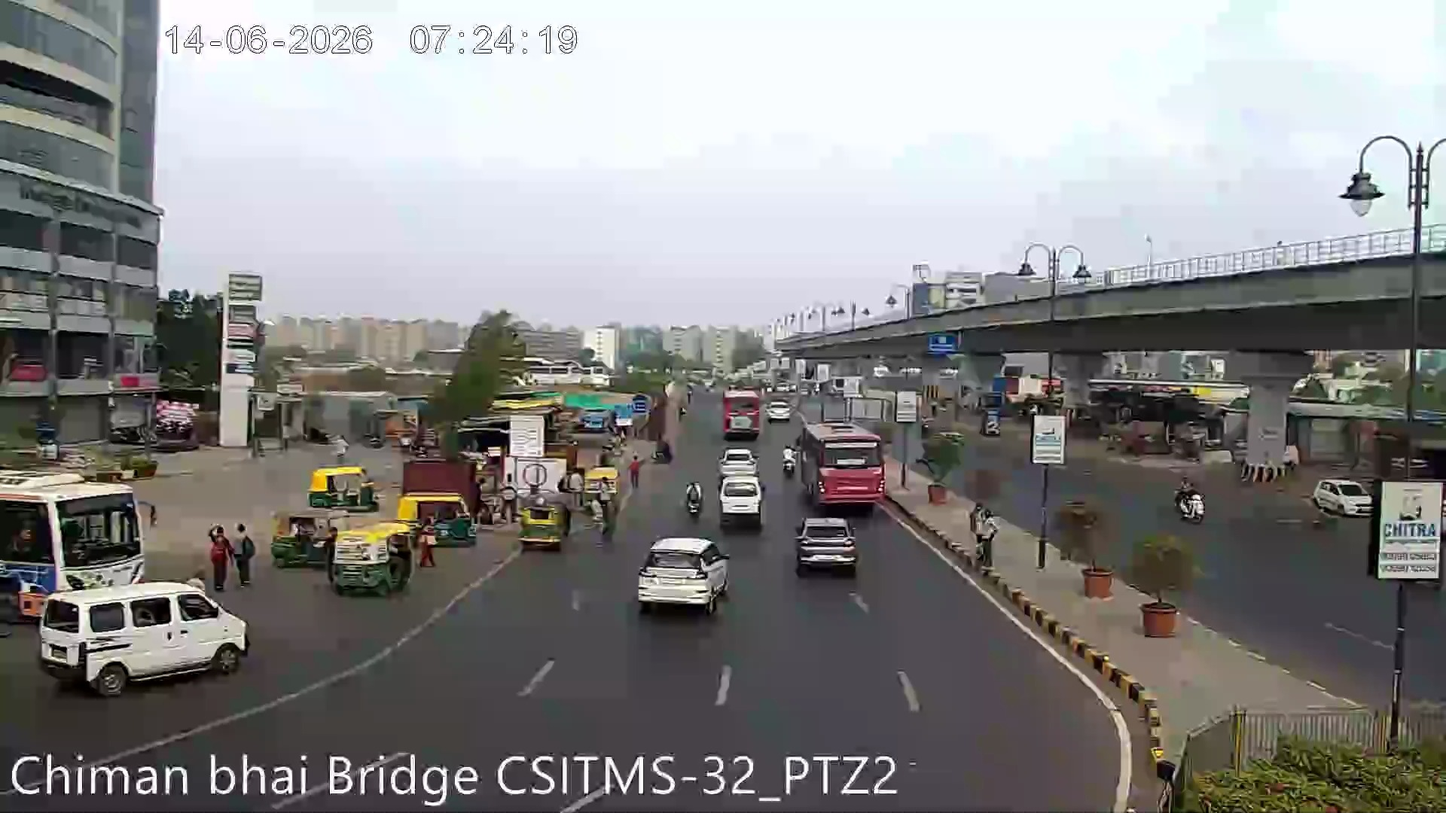auto_rickshaw: (327, 516, 415, 597), (394, 487, 479, 546), (268, 506, 336, 569), (306, 460, 379, 510), (516, 501, 567, 550), (579, 464, 621, 501)
bus: (0, 456, 162, 589), (810, 422, 888, 508), (717, 445, 765, 523), (720, 386, 762, 436)
car: (25, 582, 252, 687), (635, 531, 732, 612), (793, 510, 859, 573), (1312, 472, 1375, 519)
pedestrian: (968, 495, 1001, 564), (234, 516, 257, 590), (595, 498, 617, 550), (628, 451, 644, 493), (420, 533, 437, 572)
two_wheeler: (1172, 473, 1208, 524), (682, 475, 706, 520)
